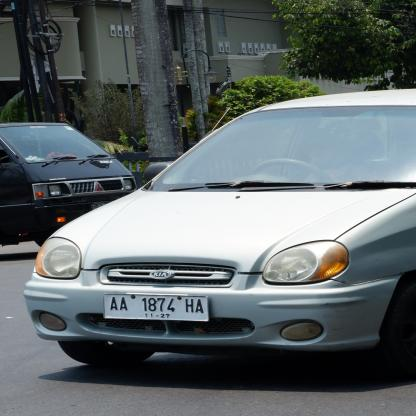Plat-Nomor: (96, 292, 212, 326)
